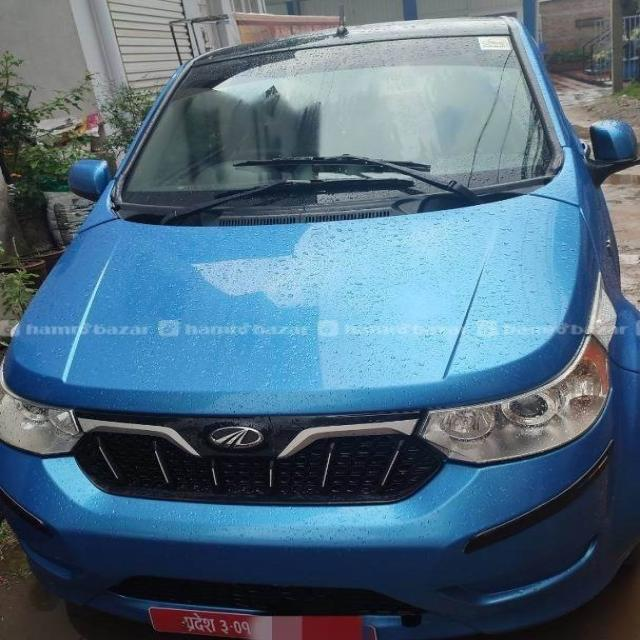License-plate: (143, 605, 369, 640)
